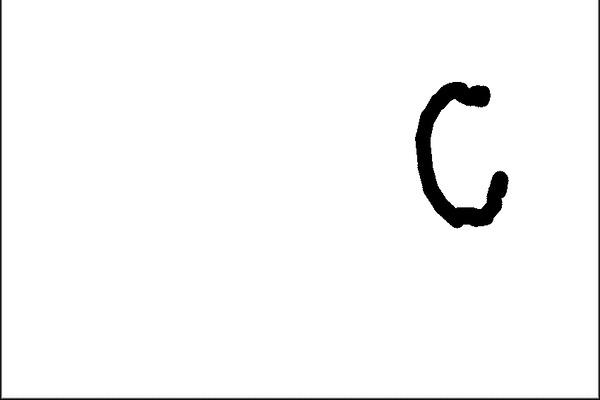C: (410, 75, 519, 233)
